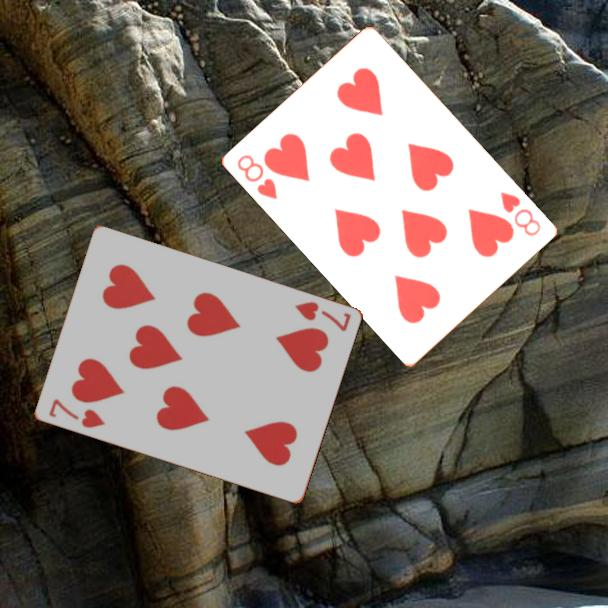h07: (291, 298, 354, 335), (45, 395, 108, 431)
h08: (497, 188, 544, 239), (234, 151, 281, 202)
